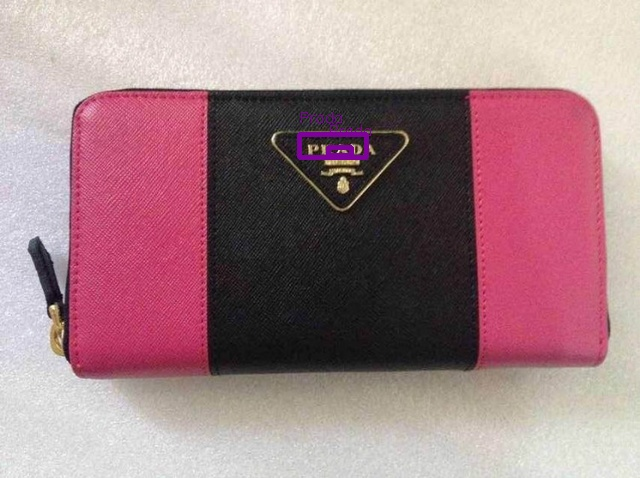Prada: (303, 141, 380, 159)
